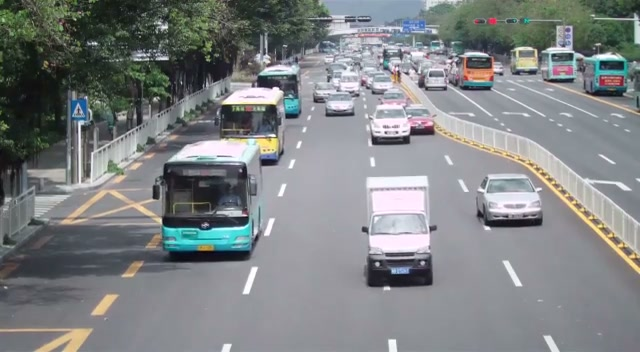bus: (154, 139, 264, 258), (217, 87, 286, 164), (255, 63, 302, 118), (582, 53, 628, 96), (455, 51, 495, 89), (540, 48, 580, 83), (510, 46, 538, 75)
car: (475, 173, 544, 227), (368, 105, 411, 144), (403, 105, 435, 134), (325, 92, 356, 117), (380, 88, 413, 108), (424, 69, 448, 91), (370, 73, 392, 94), (313, 83, 336, 102), (492, 62, 505, 76)
pedestrian: (217, 182, 243, 207)
truck: (361, 177, 436, 287), (511, 47, 539, 75)
